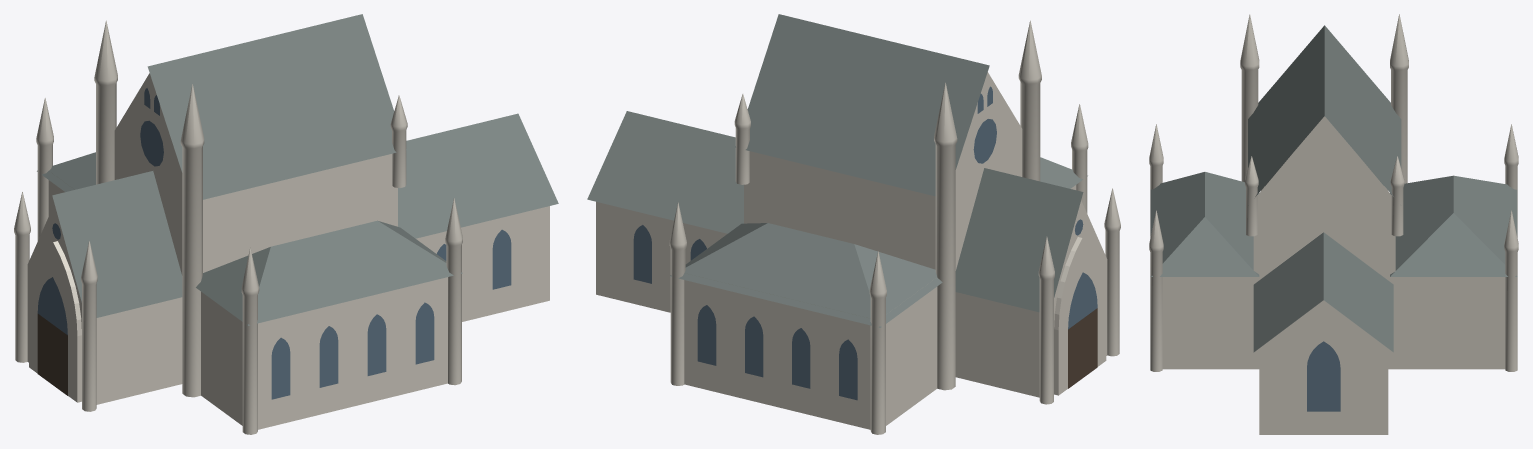
The model's file is indy-crown-hill-gothic-chapel.glb.
3 views of the same model, side by side, from view 1: azimuth 30°, elevation 25°; view 2: azimuth 150°, elevation 25°; view 3: azimuth 270°, elevation 25° (orthographic). The views are drawn at different scales.
Parts seen in each view (by area): view 1: Gothic Chapel, Crown Hill Cemetery; view 2: Gothic Chapel, Crown Hill Cemetery; view 3: Gothic Chapel, Crown Hill Cemetery.
Boxes of the visible parts, bbox=[...] form: Gothic Chapel, Crown Hill Cemetery: bbox=[14, 14, 558, 434]; Gothic Chapel, Crown Hill Cemetery: bbox=[587, 14, 1120, 434]; Gothic Chapel, Crown Hill Cemetery: bbox=[1149, 14, 1518, 434].
Size of the model in its own units: 25.06 by 15.8 by 19.76.
